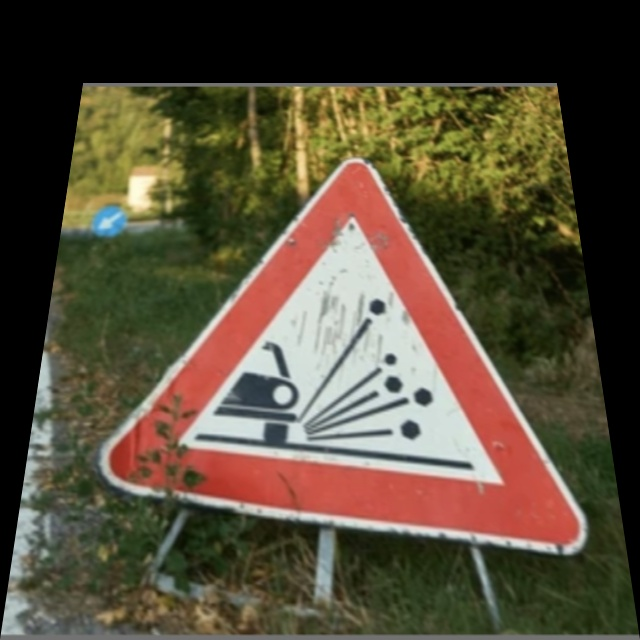Loose_Gravel: (112, 162, 554, 528)
